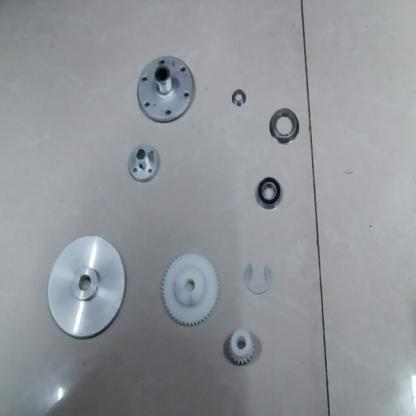FOD: (44, 236, 126, 342), (133, 52, 199, 127), (160, 251, 220, 332), (126, 142, 162, 186), (265, 105, 302, 147), (239, 258, 276, 298), (226, 324, 253, 370), (255, 174, 284, 215), (228, 86, 248, 108)
